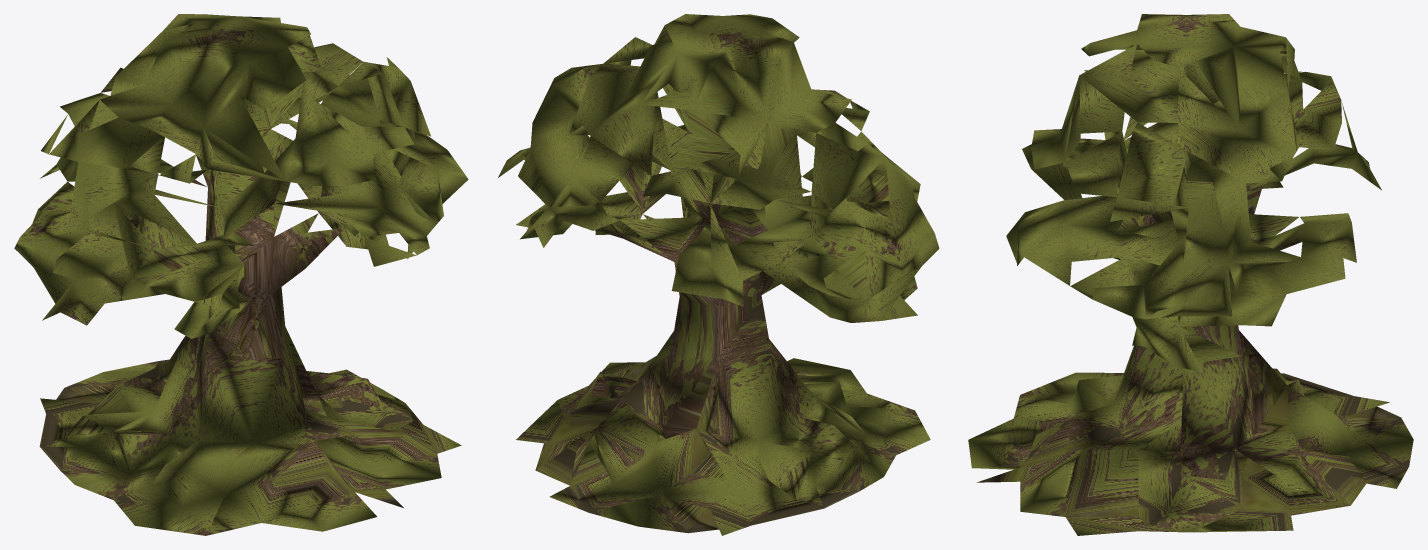
Rendered from tree_woodland_far.glb.
The picture shows the model from 3 angles, left to right: view 1: azimuth 30°, elevation 25°; view 2: azimuth 150°, elevation 25°; view 3: azimuth 270°, elevation 25°; orthographic projection. The views are drawn at different scales.
Size of the model in its own units: 1.71 by 1.65 by 1.57.
Materials: 1 (1 with a texture image).
